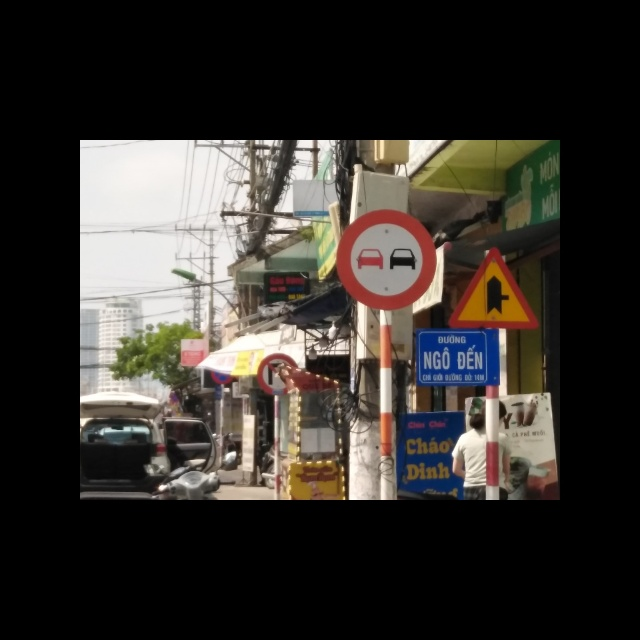Cấm vượt: (335, 207, 438, 311)
Giao nhau với đường không ưu tiên: (448, 246, 540, 332)
